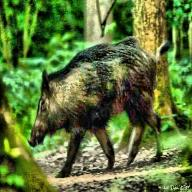boar: (26, 36, 188, 170)
